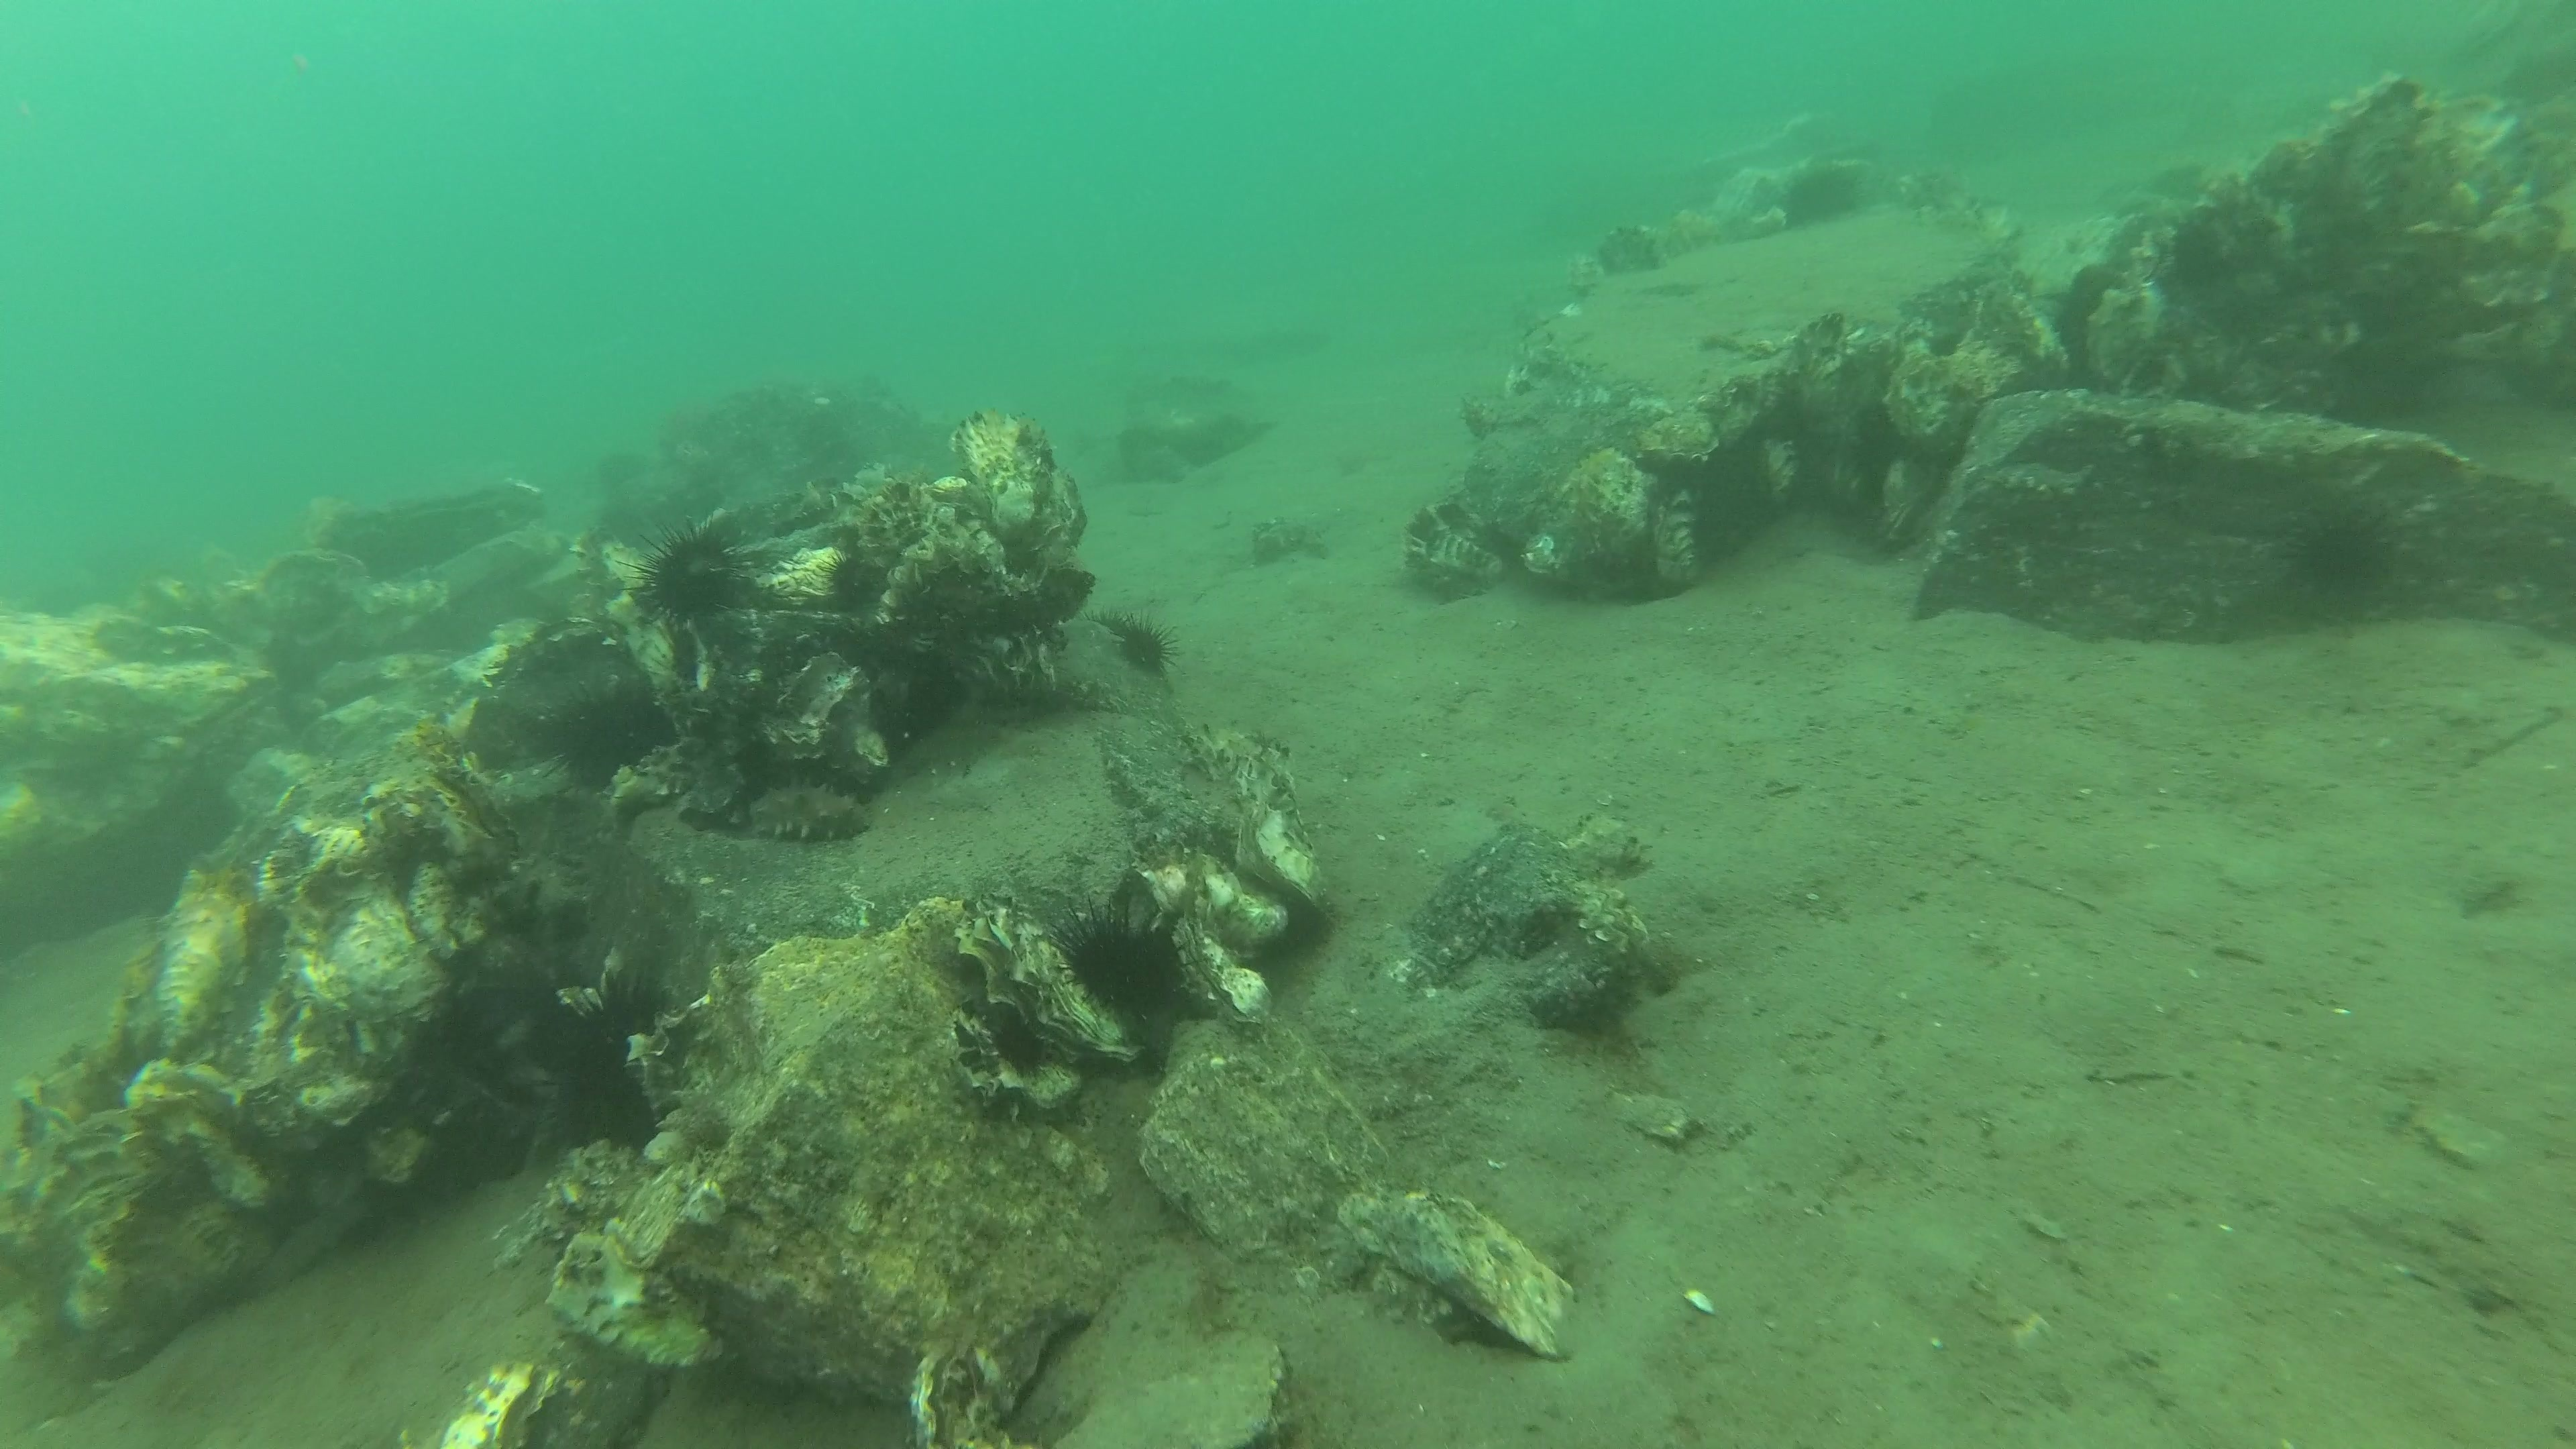echinus: (545, 962, 686, 1141), (1039, 888, 1205, 1031), (612, 513, 761, 637), (538, 690, 676, 801), (2279, 508, 2401, 610), (386, 821, 455, 902), (1778, 161, 1861, 228), (1844, 402, 1911, 483), (984, 1008, 1051, 1079), (1118, 614, 1189, 679), (2065, 264, 2137, 326), (2162, 214, 2224, 287), (819, 550, 878, 610), (1079, 600, 1139, 640)
holothurian: (748, 771, 878, 844)
